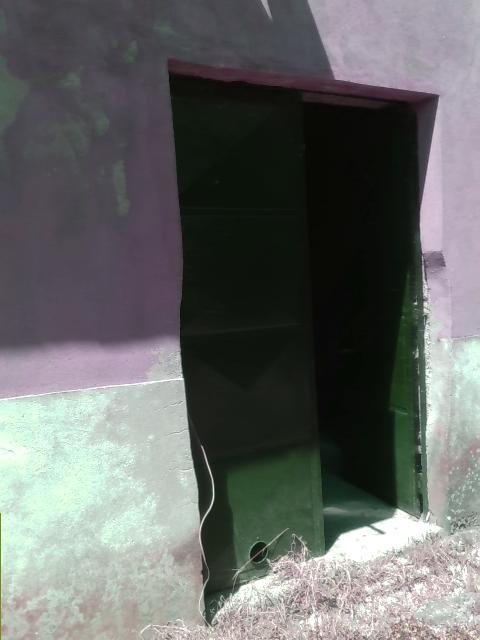open_door: (163, 56, 441, 627)
